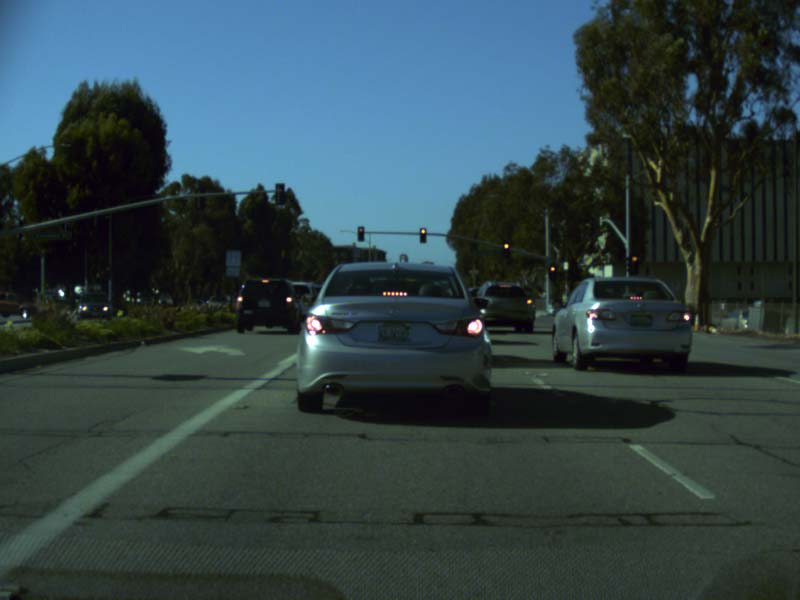Red: (629, 255, 637, 273), (104, 264, 111, 281), (502, 242, 509, 257), (548, 265, 555, 278), (357, 226, 363, 240), (420, 228, 425, 241)
